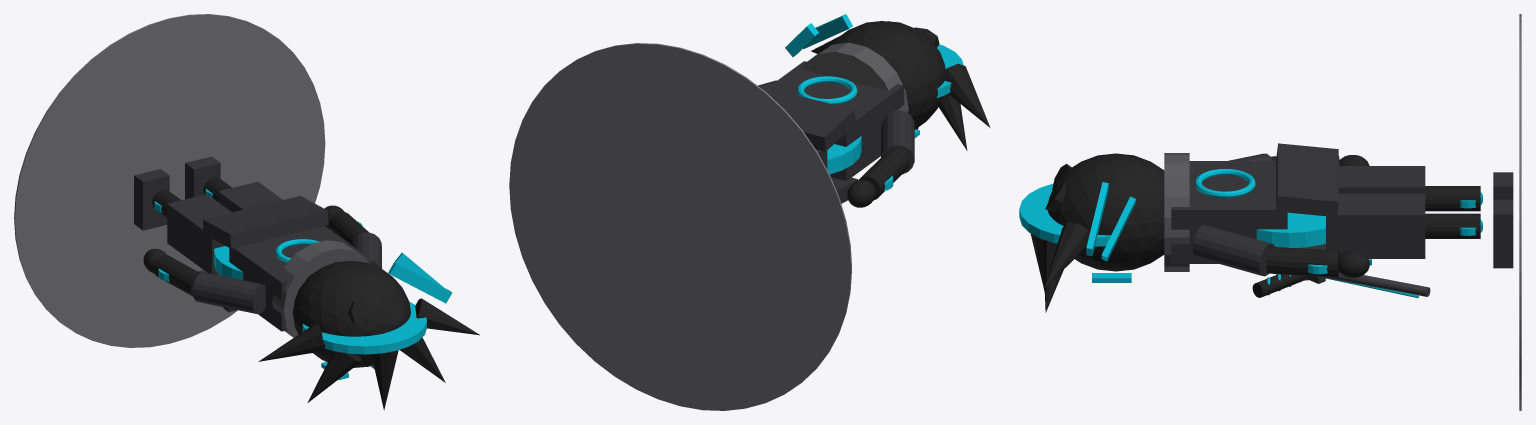
The model's file is InkRonin_blockout_model.glb.
3 views of the same model, side by side, from view 1: azimuth 30°, elevation 25°; view 2: azimuth 150°, elevation 25°; view 3: azimuth 270°, elevation 25° (orthographic). The views are drawn at different scales.
Visible parts, largest first — view 1: simple_floor_reference, round_black_head, black_skirt_panel_back, loose_black_robe_torso, left_baggy_pants, rough_black_collar, cyan_headband, left_upper_arm, left_boot, right_baggy_pants, black_hair_spike_4, right_boot (+10 smaller); view 2: simple_floor_reference, round_black_head, loose_black_robe_torso, rough_black_collar, black_skirt_panel_back, left_upper_arm, black_hair_spike_4, left_forearm, cyan_waist_sash_ring, cyan_back_circle_symbol, black_hair_spike_1, left_hand_simple (+3 smaller); view 3: round_black_head, loose_black_robe_torso, right_baggy_pants, black_skirt_panel_back, right_upper_arm, left_baggy_pants, rough_black_collar, right_forearm, cyan_waist_sash_ring, cyan_headband, right_boot, left_thin_leg (+11 smaller).
Boxes of the visible parts, x1,y1,x2,y2 form: simple_floor_reference: [14, 14, 325, 347]; round_black_head: [292, 261, 410, 367]; black_skirt_panel_back: [203, 195, 328, 248]; loose_black_robe_torso: [229, 226, 372, 331]; left_baggy_pants: [167, 194, 231, 274]; rough_black_collar: [272, 240, 368, 337]; cyan_headband: [302, 302, 426, 354]; left_upper_arm: [193, 272, 265, 314]; left_boot: [134, 169, 169, 230]; right_baggy_pants: [218, 181, 282, 212]; black_hair_spike_4: [258, 322, 328, 361]; right_boot: [185, 156, 220, 199]; simple_floor_reference: [509, 43, 852, 410]; round_black_head: [830, 21, 945, 129]; loose_black_robe_torso: [767, 61, 904, 180]; rough_black_collar: [802, 42, 908, 113]; black_skirt_panel_back: [758, 86, 855, 151]; left_upper_arm: [881, 110, 914, 174]; black_hair_spike_4: [944, 63, 990, 127]; left_forearm: [859, 148, 909, 199]; cyan_waist_sash_ring: [827, 136, 861, 174]; cyan_back_circle_symbol: [797, 76, 857, 104]; black_hair_spike_1: [938, 94, 967, 150]; left_hand_simple: [847, 180, 875, 207]; round_black_head: [1047, 153, 1164, 271]; loose_black_robe_torso: [1171, 161, 1287, 263]; right_baggy_pants: [1326, 193, 1425, 258]; black_skirt_panel_back: [1276, 143, 1338, 217]; right_upper_arm: [1192, 225, 1274, 276]; left_baggy_pants: [1338, 166, 1425, 193]; rough_black_collar: [1164, 153, 1189, 271]; right_forearm: [1266, 246, 1339, 277]; cyan_waist_sash_ring: [1256, 212, 1325, 247]; cyan_headband: [1019, 183, 1110, 246]; right_boot: [1493, 199, 1513, 268]; left_thin_leg: [1425, 186, 1480, 211].
Size of the model in its own units: 2.8 by 2.8 by 3.54.
